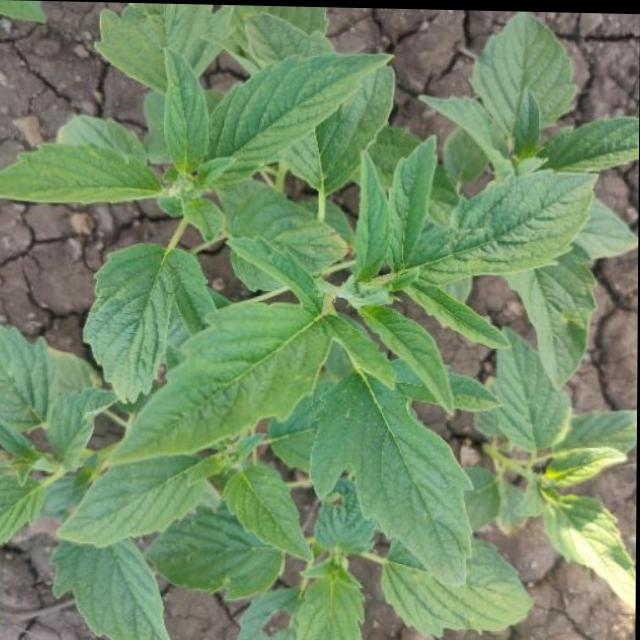crop: (0, 1, 640, 640)
